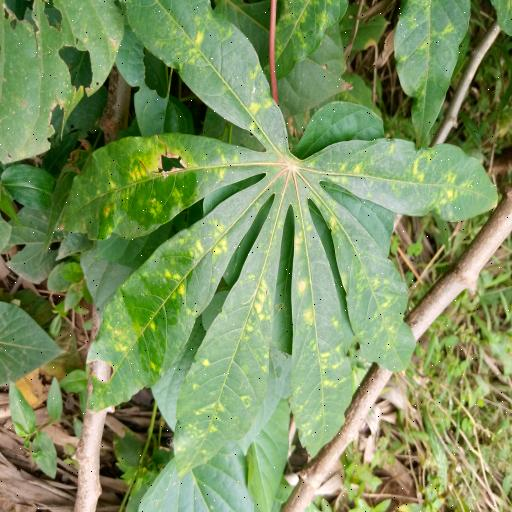Cassava_Mosaic: (60, 14, 502, 472)
